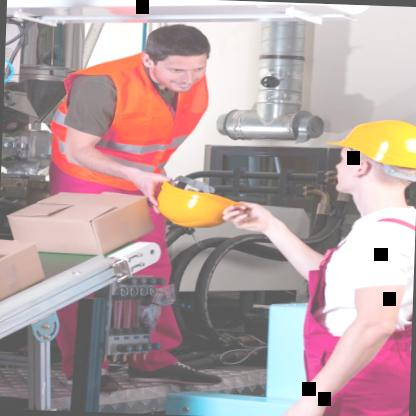head: (136, 18, 222, 102)
helmet: (323, 111, 416, 212)
